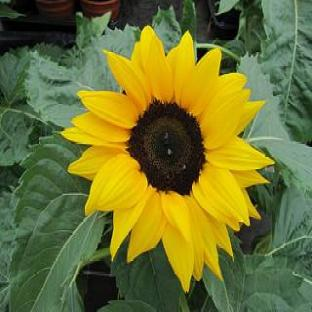sunflower: (59, 27, 274, 295)
